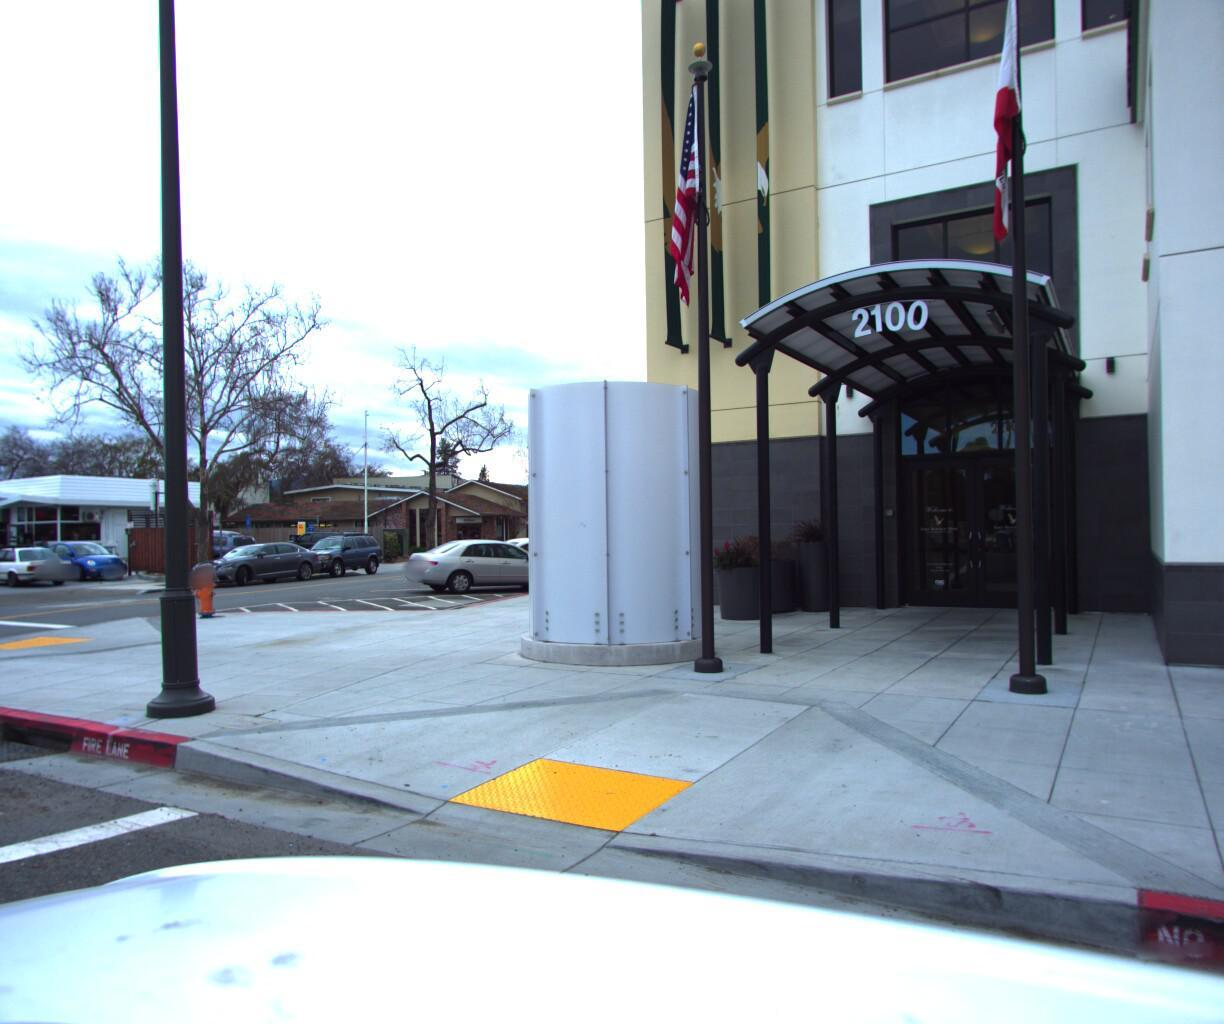car: (400, 529, 574, 592), (460, 528, 617, 581), (179, 533, 326, 585), (281, 526, 390, 576), (24, 533, 136, 574), (162, 525, 269, 565), (0, 535, 82, 582), (0, 510, 72, 533)
